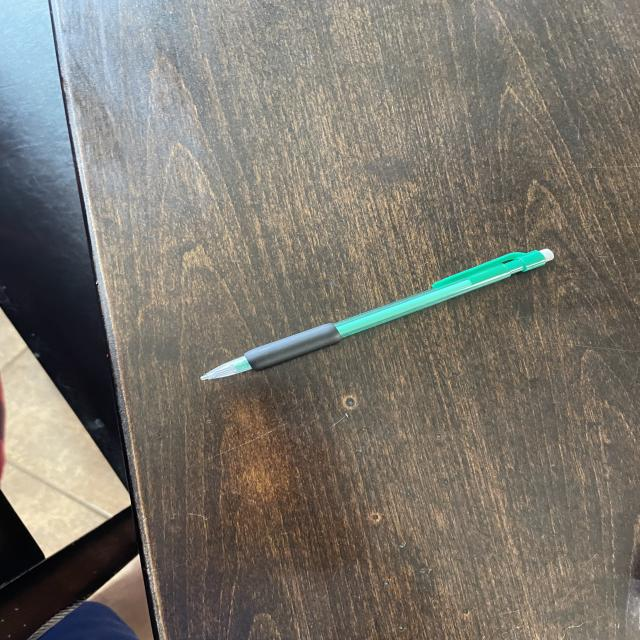mechanical-pencils: (184, 241, 566, 392)
